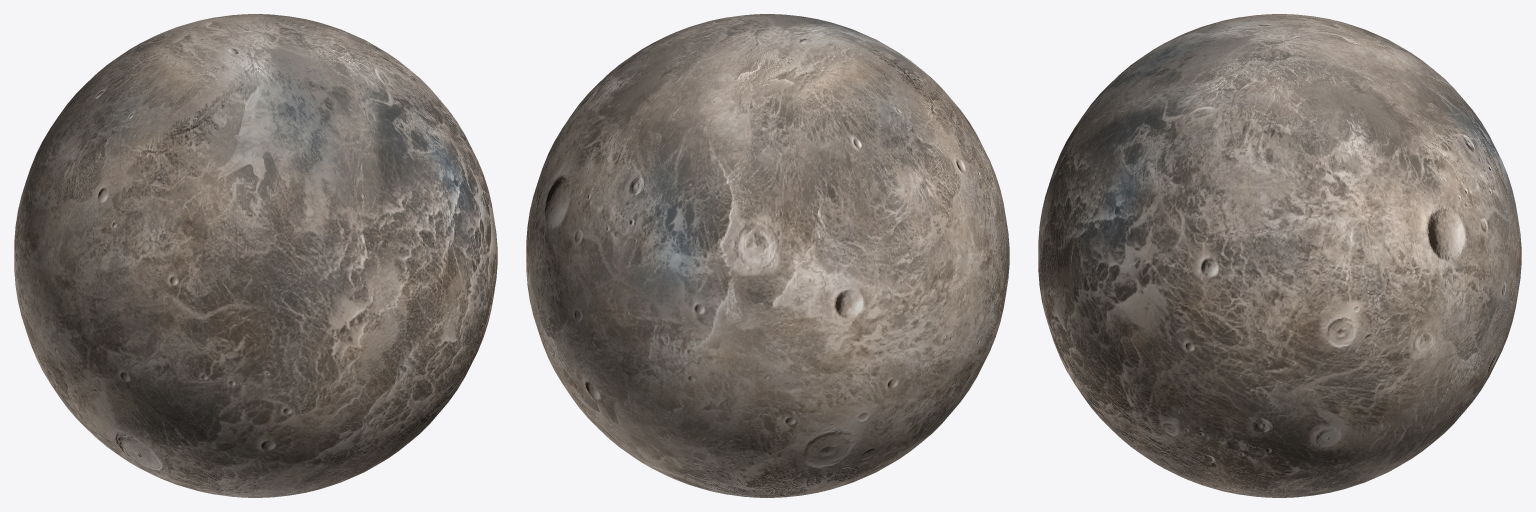
Rendered from ceres.glb.
The picture shows the model from 3 angles, left to right: view 1: azimuth 30°, elevation 25°; view 2: azimuth 150°, elevation 25°; view 3: azimuth 270°, elevation 25°; orthographic projection.
Visible parts, largest first — view 1: Sphere; view 2: Sphere; view 3: Sphere.
Boxes of the visible parts, x1,y1,x2,y2 form: Sphere: (14, 14, 497, 497); Sphere: (526, 14, 1009, 497); Sphere: (1038, 14, 1521, 497).
Bounding box in the file's own units: 2 × 2 × 2.
1 material, 1 textured.
